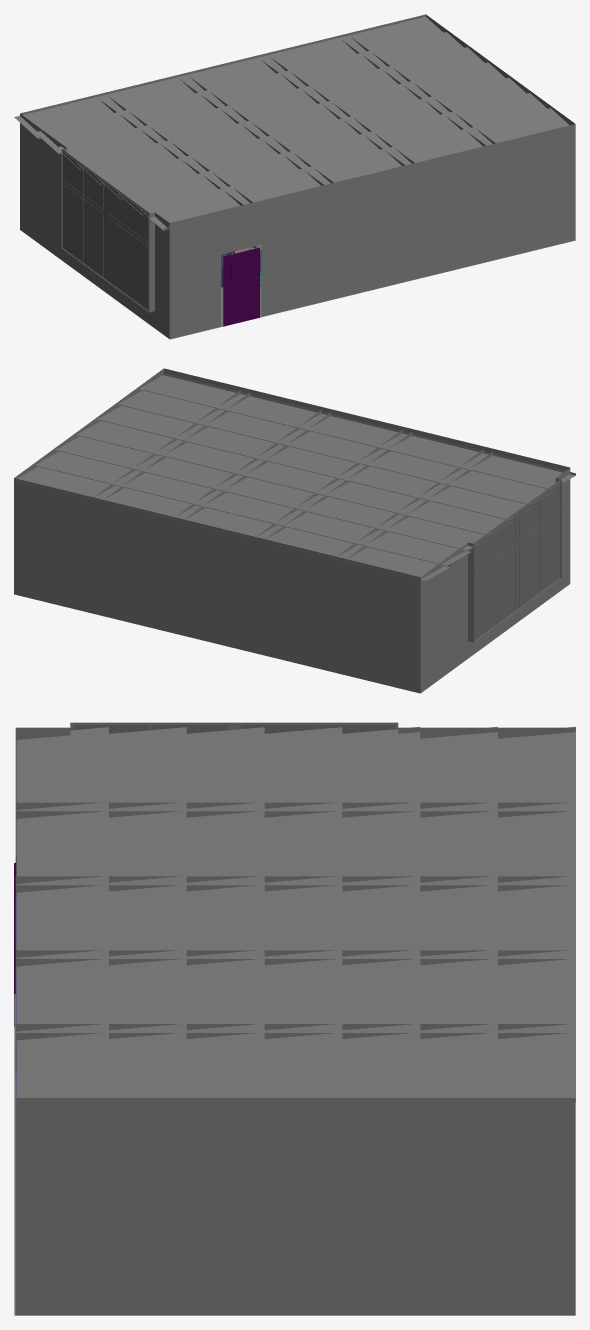
Rendered from Classroom03.fbx.
3 views of the same model, one above another, from view 1: azimuth 30°, elevation 25°; view 2: azimuth 150°, elevation 25°; view 3: azimuth 270°, elevation 25° (orthographic). The views are drawn at different scales.
Parts seen in each view (by area): view 1: Room, WindowGlass, Door1; view 2: Room, WindowGlass; view 3: Room, WindowGlass.
Boxes of the visible parts, bbox=[...] form: Room: bbox=[14, 14, 575, 339]; WindowGlass: bbox=[62, 150, 149, 311]; Door1: bbox=[223, 247, 259, 326]; Room: bbox=[14, 368, 575, 693]; WindowGlass: bbox=[473, 480, 560, 641]; Room: bbox=[14, 723, 575, 1315]; WindowGlass: bbox=[70, 722, 397, 733].
Bounding box in the file's own units: 104 × 28 × 65.57.
